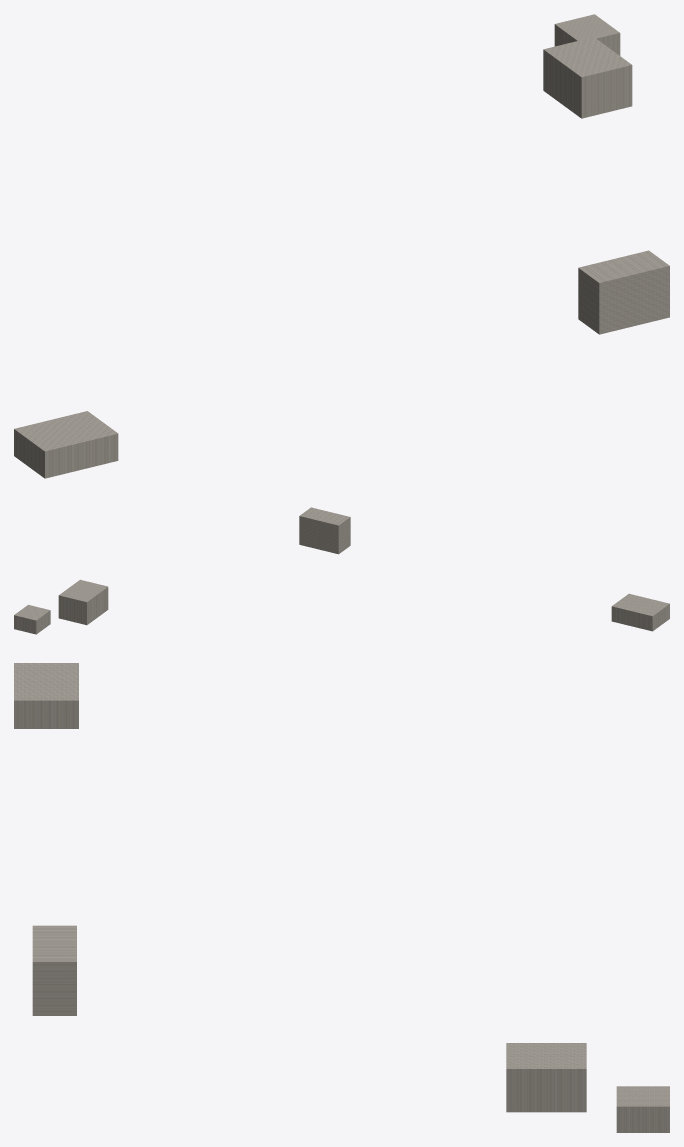
Rendered from cell_0_-2_lod1.gltf.
The picture shows the model from 3 angles, top to bottom: view 1: azimuth 30°, elevation 25°; view 2: azimuth 150°, elevation 25°; view 3: azimuth 270°, elevation 25°; orthographic projection. The views are drawn at different scales.
Parts seen in each view (by area): view 1: MASS_YABA_006; view 2: MASS_YABA_006; view 3: MASS_YABA_006.
Boxes of the visible parts, x1,y1,x2,y2 form: MASS_YABA_006: [14, 14, 669, 478]; MASS_YABA_006: [14, 507, 669, 634]; MASS_YABA_006: [14, 663, 669, 1132].
Bounding box in the file's own units: 393 × 22.47 × 247.
1 material, 1 textured.
